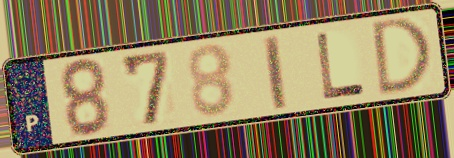7: (117, 49, 175, 129)
8: (57, 56, 114, 141), (185, 40, 238, 122)
D: (370, 15, 435, 101)
I: (260, 32, 290, 113)
L: (314, 29, 368, 101)
